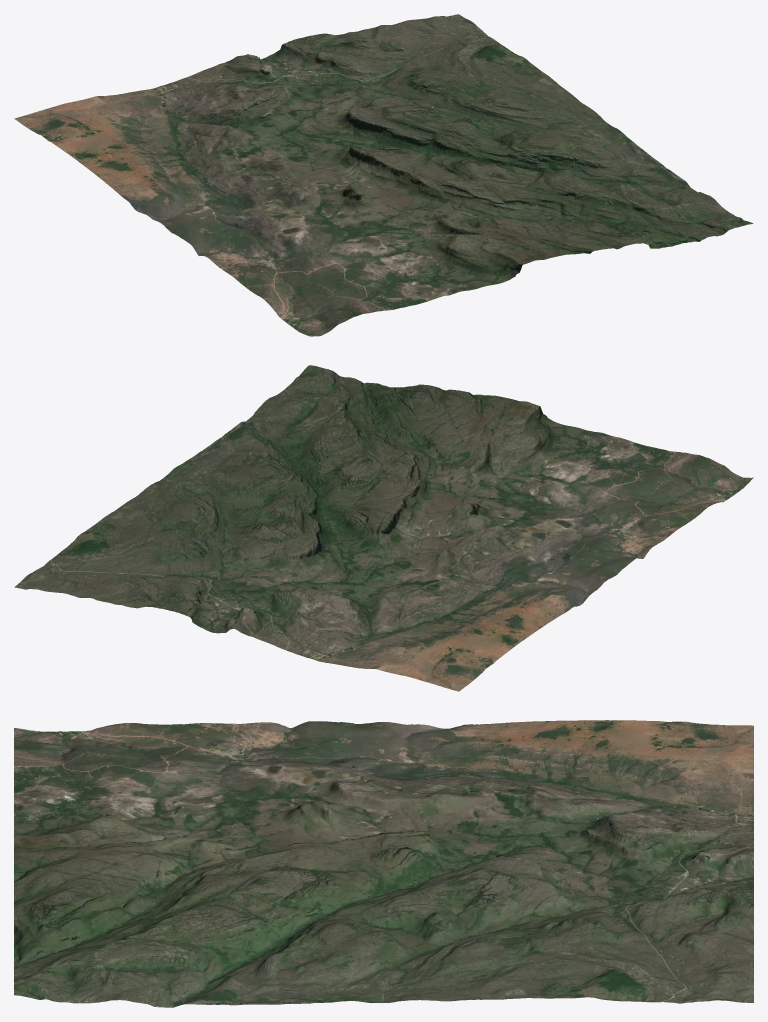
The model's file is Paisaje2.glb.
3 renders of one model, top to bottom at view 1: azimuth 30°, elevation 25°; view 2: azimuth 150°, elevation 25°; view 3: azimuth 270°, elevation 25°, orthographic. The views are drawn at different scales.
Visible parts, largest first — view 1: TerrainNode_0; view 2: TerrainNode_0; view 3: TerrainNode_0.
Boxes of the visible parts, x1,y1,x2,y2 form: TerrainNode_0: [14, 14, 753, 336]; TerrainNode_0: [14, 365, 753, 691]; TerrainNode_0: [14, 720, 753, 1007].
Size of the model in its own units: 13018 by 787 by 14951.
1 material, 1 textured.
